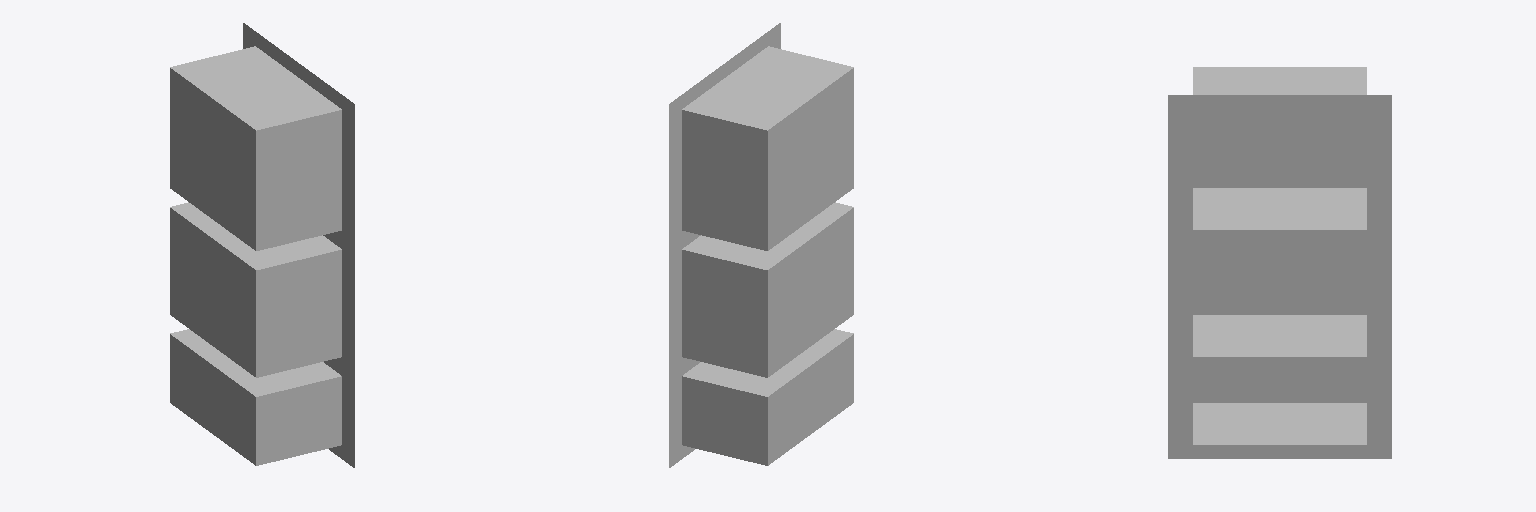
File: shelving.obj
3 views of the same model, side by side, from view 1: azimuth 30°, elevation 25°; view 2: azimuth 150°, elevation 25°; view 3: azimuth 270°, elevation 25° (orthographic).
Bounding box in the file's own units: 0.739 × 2.99 × 1.66.